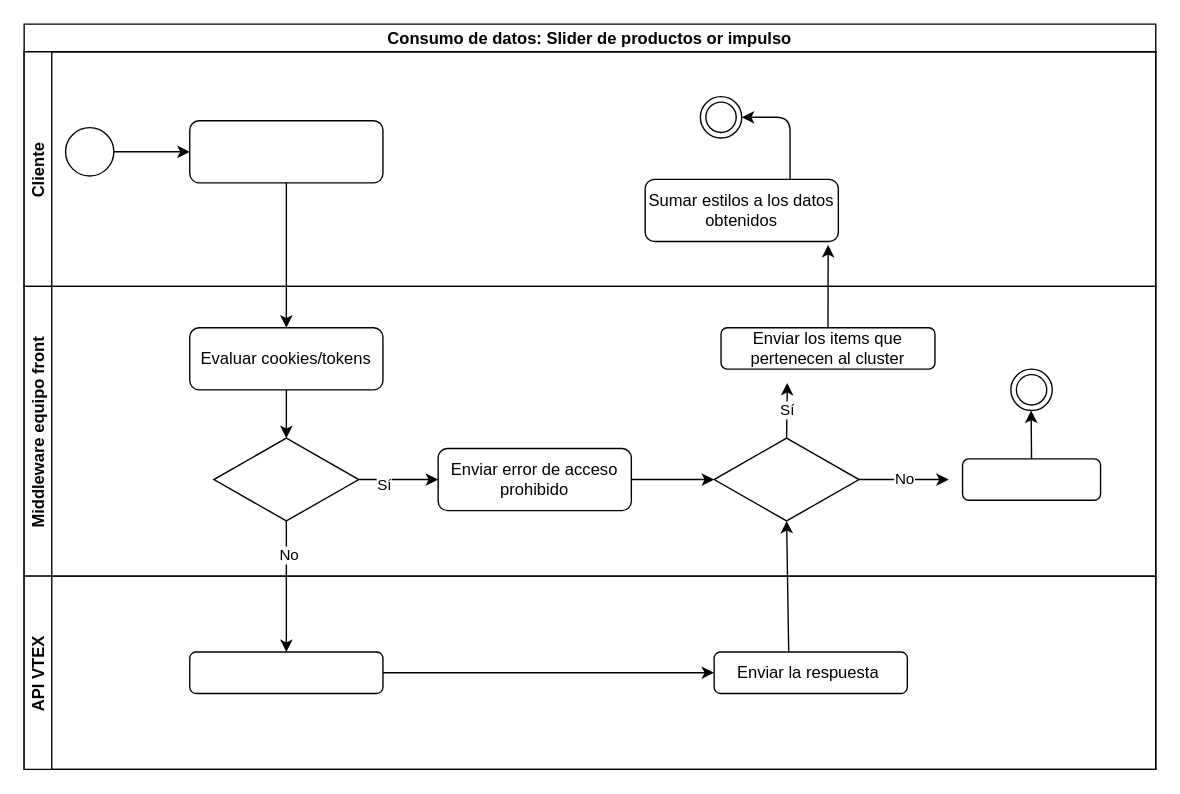
Image size: 1180x794. Some labels were removed from this diagram. Each missing label, with the centre of its shape:
Enviar ID de cluster a endpoint del middleware: the point at 285,151
Enviar mensaje de no encontrado: the point at 1031,478
Procesar petición: the point at 285,672
¿El cliente cuenta con permiso?: the point at 286,479
¿Existe el cluster?: the point at 786,479
